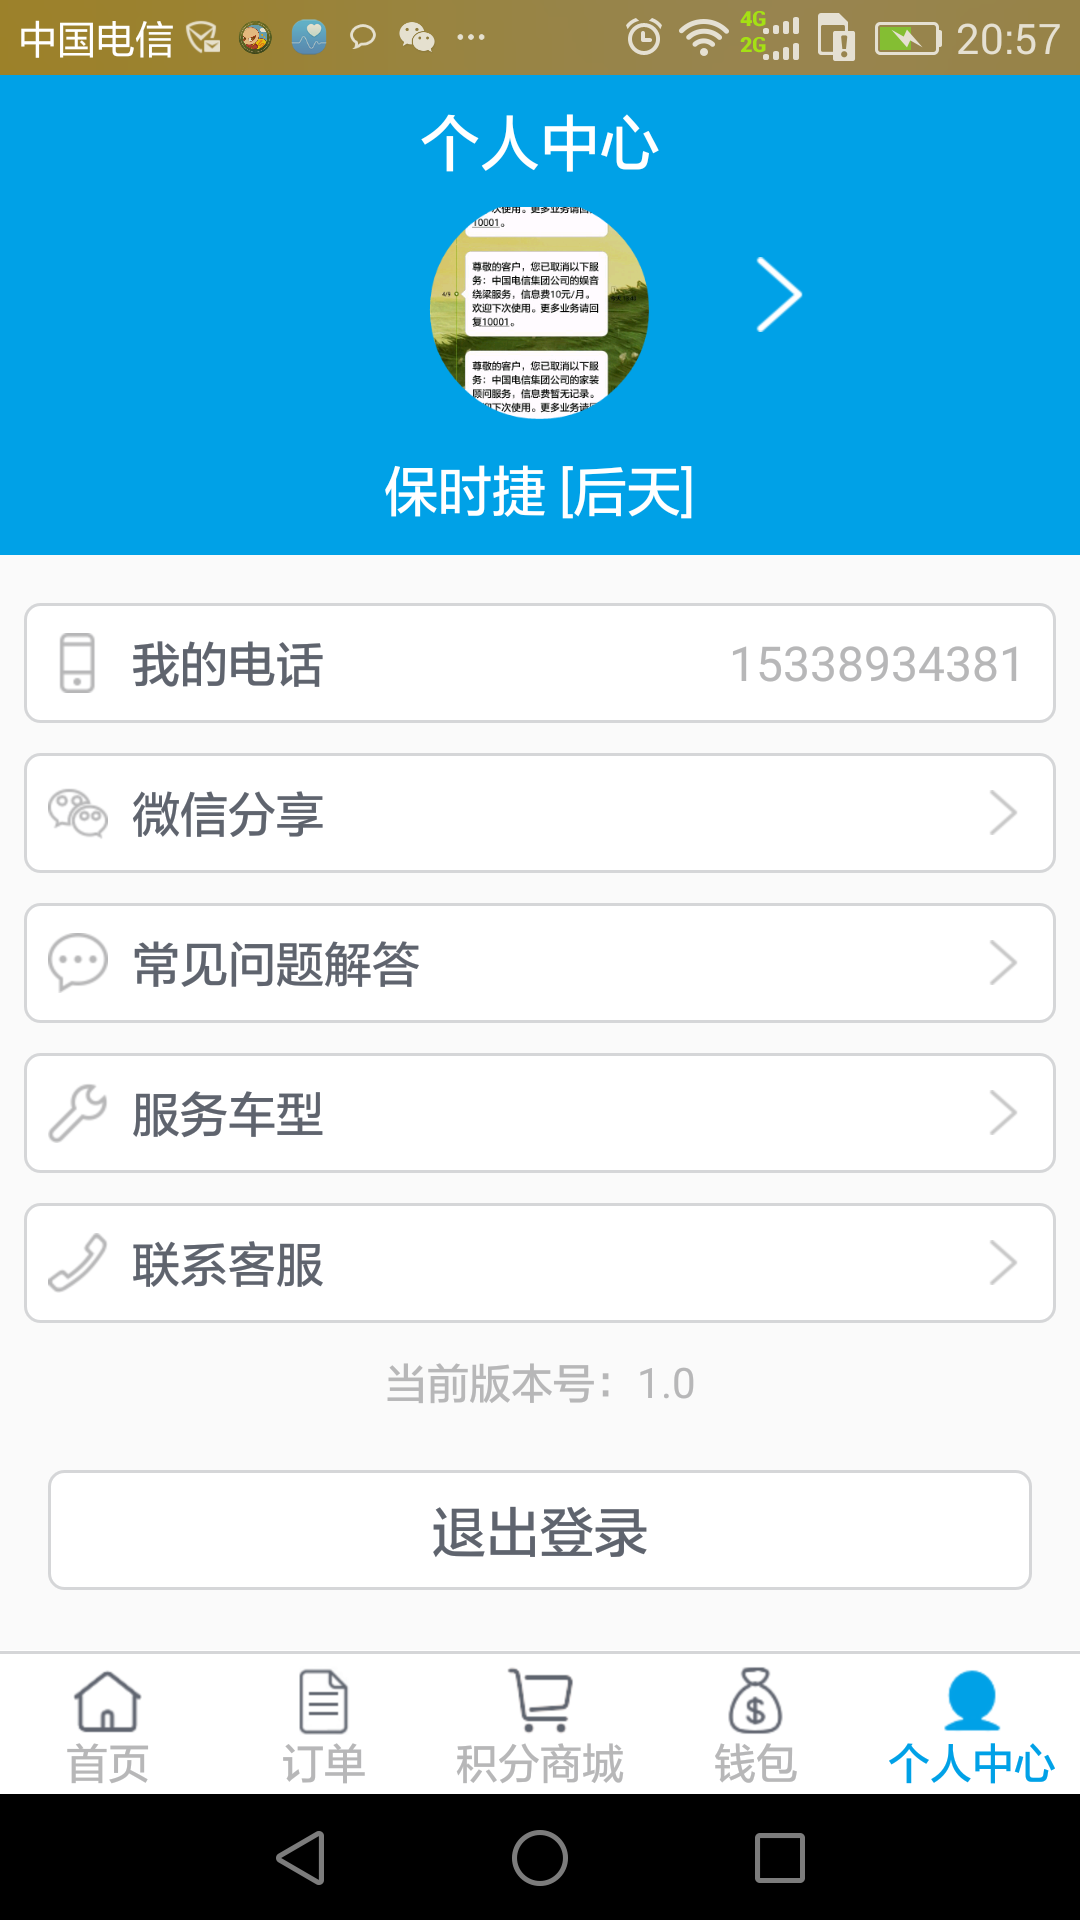button: (26, 1458, 1036, 1602)
imgbutton: (724, 229, 862, 382)
